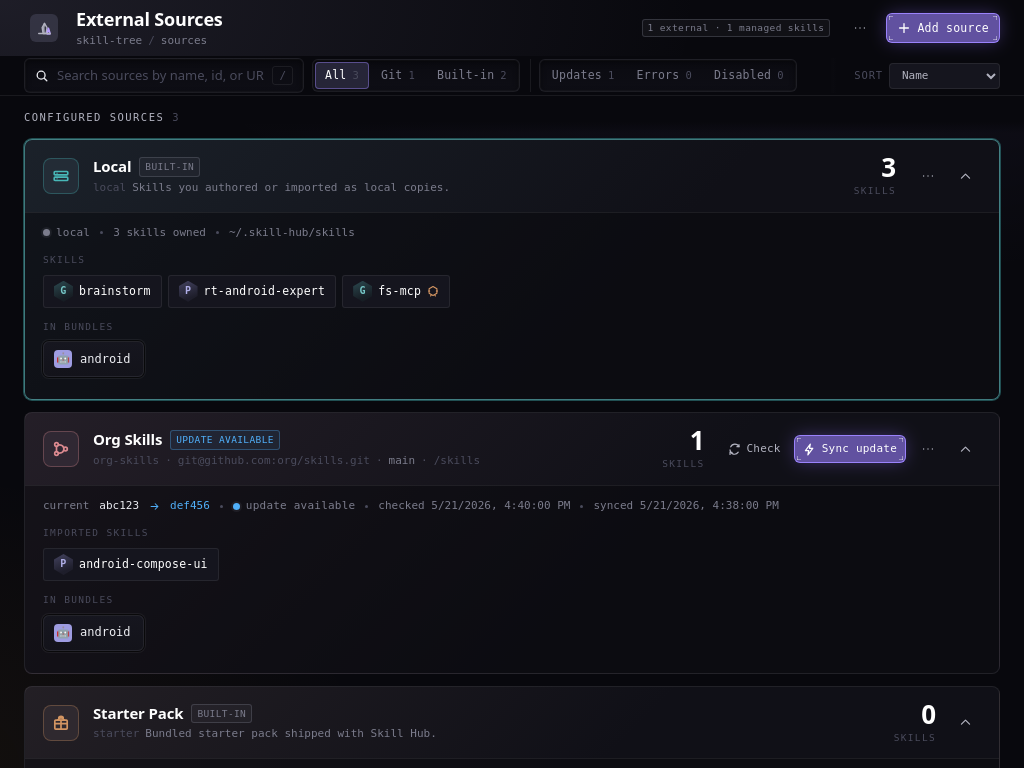
Test case: Sources — remove-source ConfirmDialog › opens a destructive ConfirmDialog with blast radius — no window.confirm
The image size is (1024, 768).
Click the button named "Actions for Org Skills". click: point(928, 449)
box: [910,435,946,463]
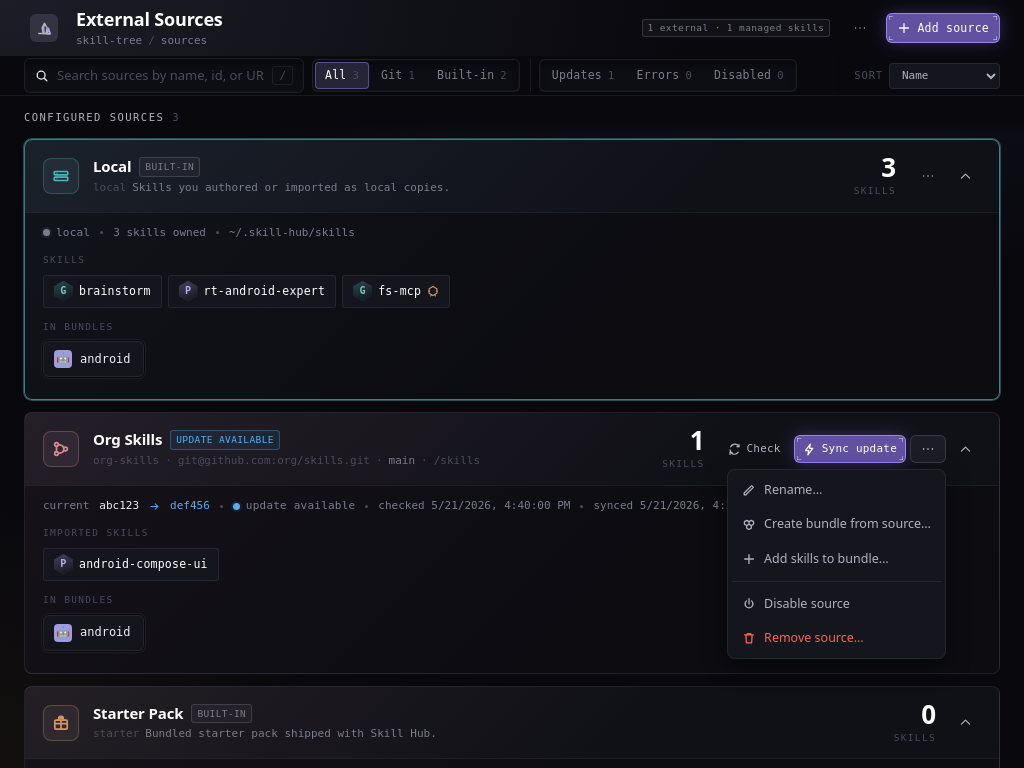
Click the menu item "Remove source…". click: point(837, 638)
box: [732,622,941,654]
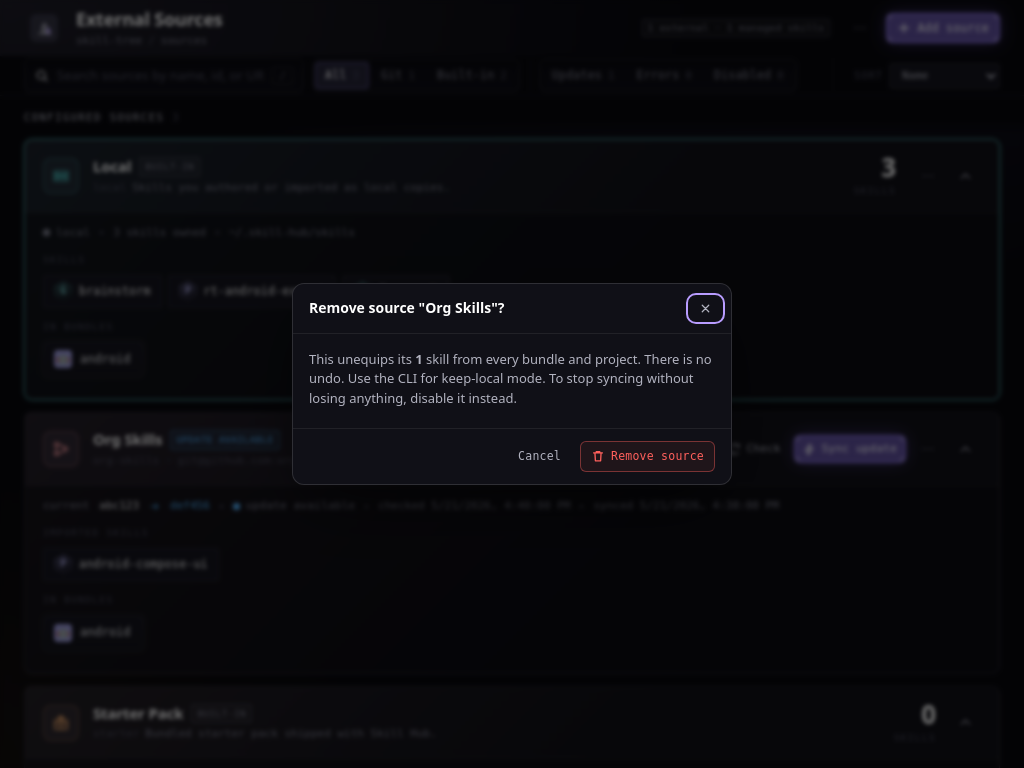
Now the dialog shows "Remove source \"Org Skills\"?", box [309,298,504,317]
Now the dialog shows "1 skill", box [292,283,732,485]
